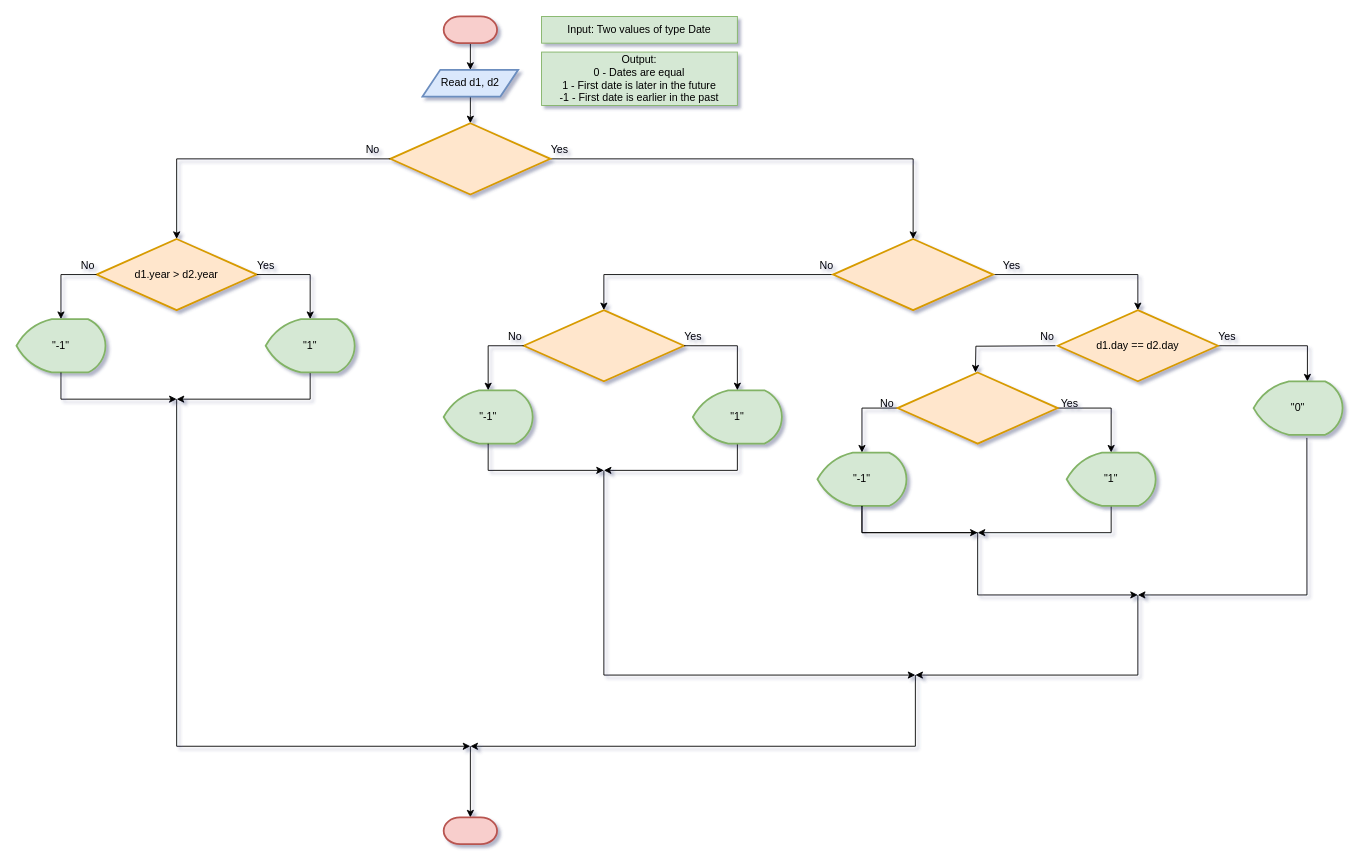
Some shapes in this 1363 by 865 pixel diagram are drawn without their labels. Here are the shapes that lost their labels. From the top down, the box of each, then its label:
(442, 15, 498, 44): BEGIN
(389, 122, 551, 195): d1.year == d2.year
(832, 238, 994, 311): d1.month == d2.month
(522, 309, 684, 382): d1.month > d2.month
(896, 371, 1058, 444): d1.day > d2.day
(442, 816, 498, 845): END
